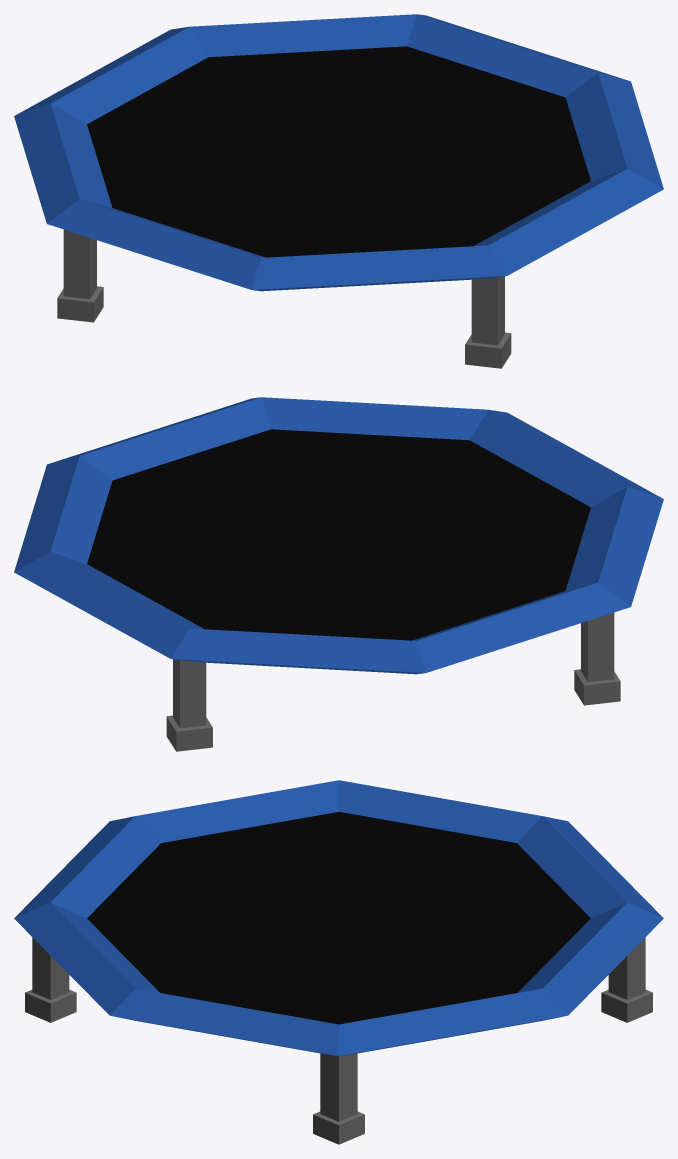
Rendered from Trampoline_Old.fbx.
3 renders of one model, top to bottom at view 1: azimuth 30°, elevation 25°; view 2: azimuth 150°, elevation 25°; view 3: azimuth 270°, elevation 25°, orthographic. The views are drawn at different scales.
Visible parts, largest first — view 1: Mat, Trampoline; view 2: Mat, Trampoline; view 3: Mat, Trampoline.
Boxes of the visible parts, left/top/right/bottom form: Mat: left=87, top=46, right=590, bottom=257; Trampoline: left=14, top=14, right=663, bottom=368; Mat: left=87, top=429, right=590, bottom=640; Trampoline: left=14, top=397, right=663, bottom=751; Mat: left=87, top=812, right=590, bottom=1024; Trampoline: left=14, top=780, right=663, bottom=1144.
Size of the model in its own units: 153 by 28.38 by 152.
